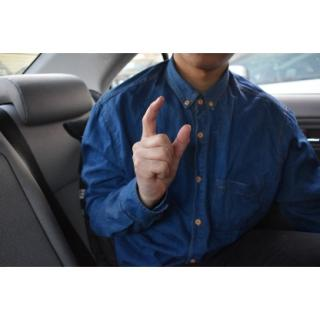NOON: (128, 91, 194, 203)
